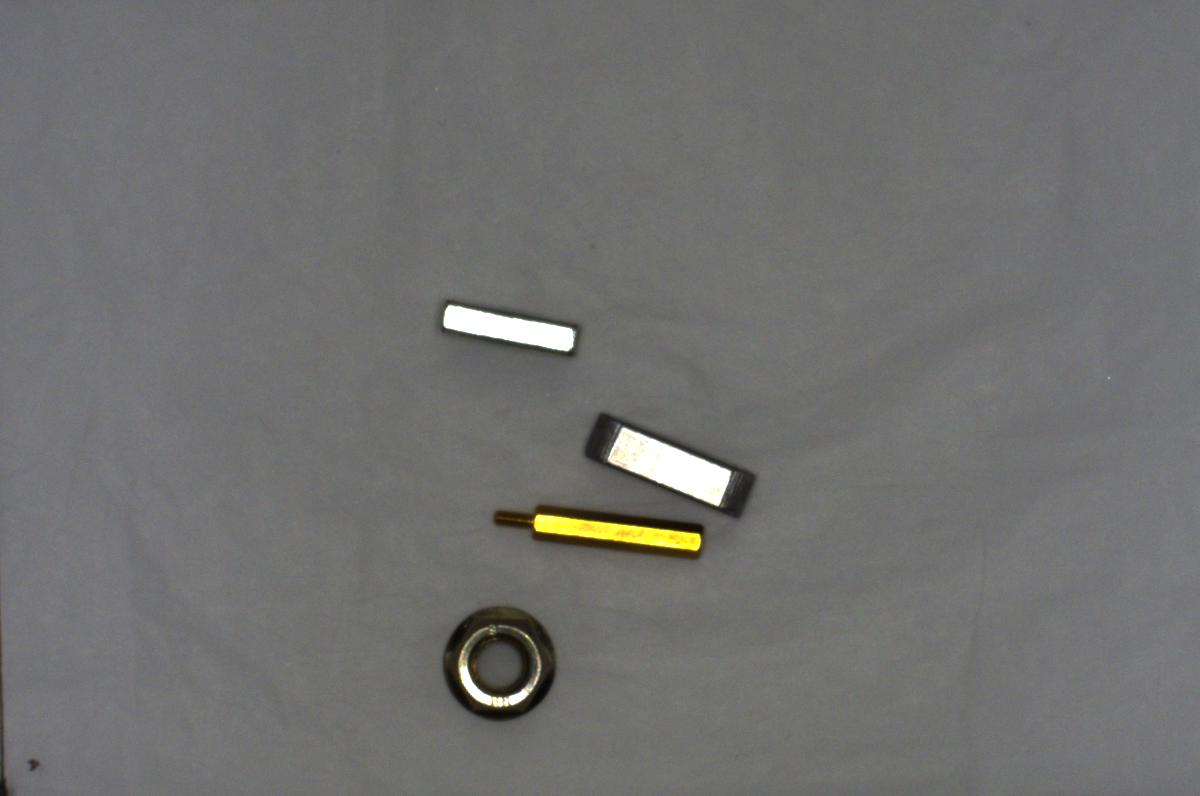Flange nut: (426, 594, 572, 730)
Hexagon pillar: (478, 496, 712, 561)
Keybar: (578, 408, 759, 521)
Rectangular nut: (431, 292, 584, 362)
